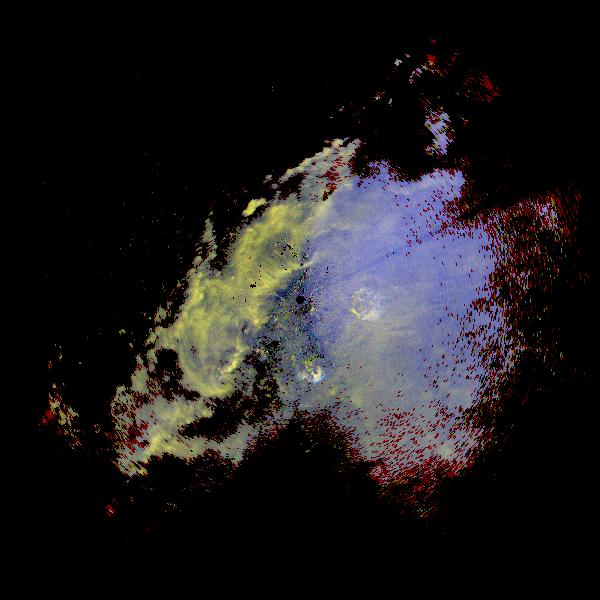roost: (322, 275, 394, 347), (287, 352, 329, 394)
